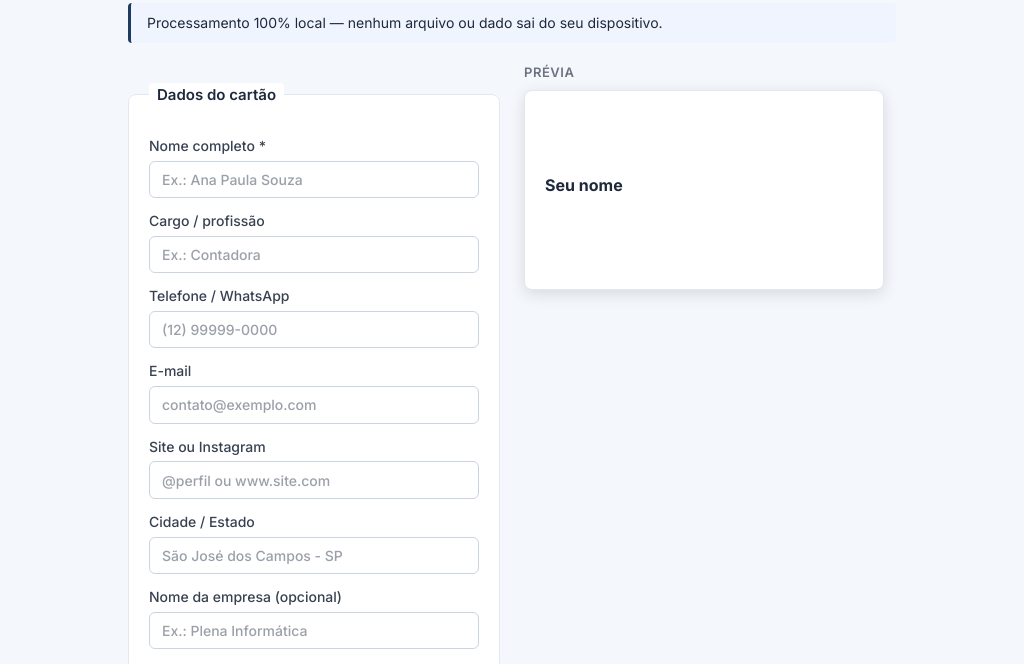
Test: BusinessCardCreatorTool — download PDF › exibe mensagem de erro acessível quando generatePdf lança exceção
The image size is (1024, 664).
Type "Ana Silva" into the field labelled "Nome completo *" at (314, 179), box [149,161,479,198]
(page scrolled)
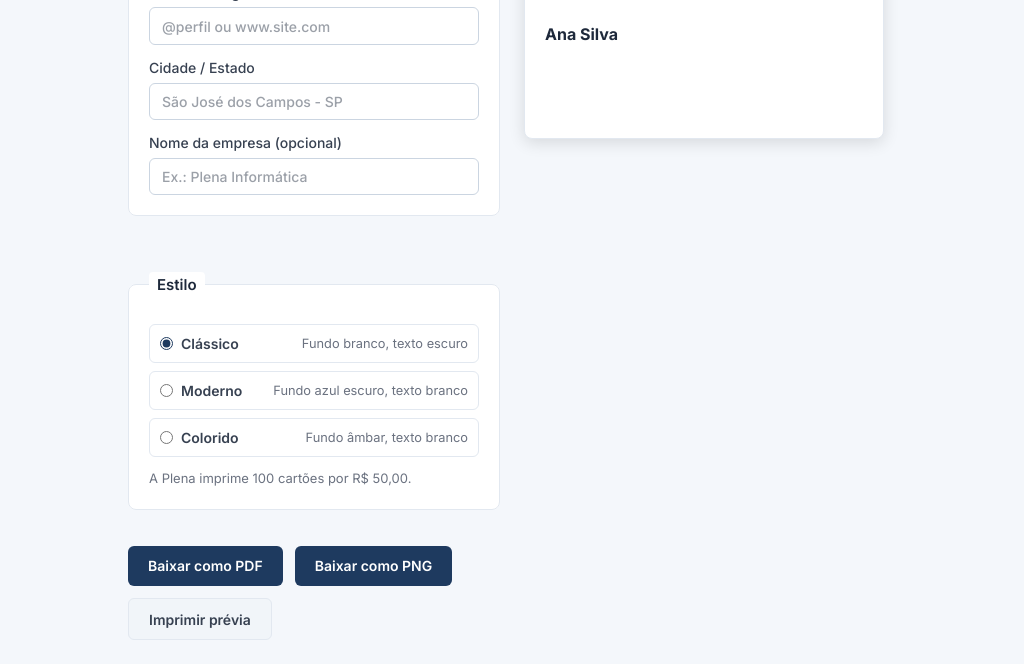
Click the button "Baixar como PDF" at (205, 566), box [128,546,283,586]
(page scrolled)
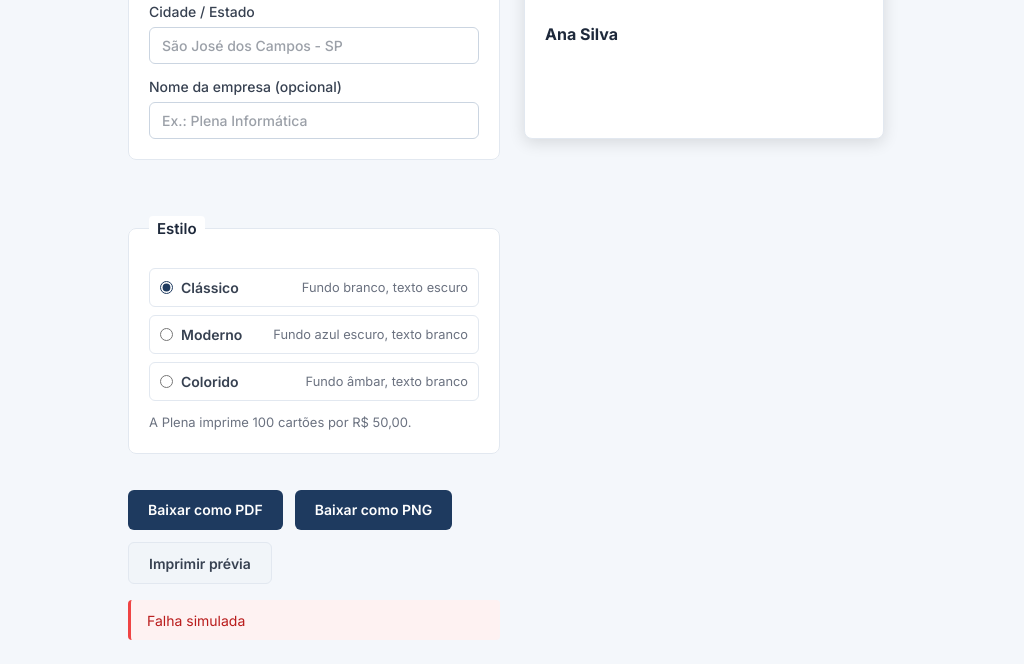
Now the text "Falha simulada" is shown, box [128,600,500,640]
